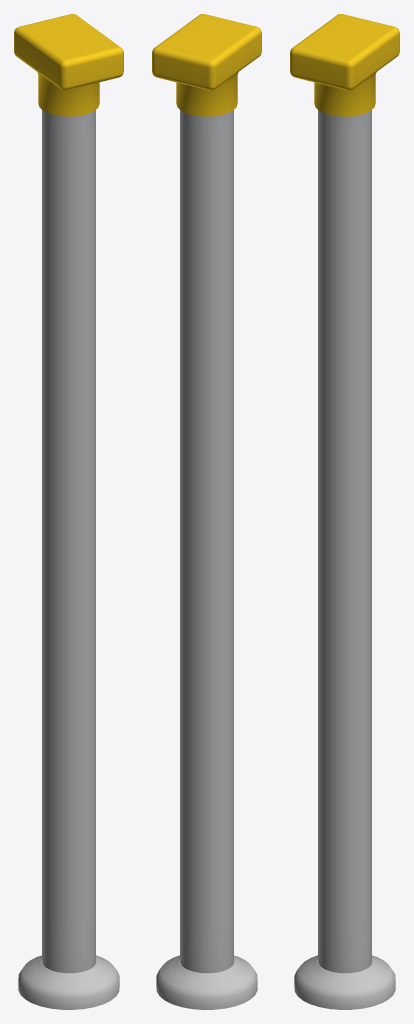
The model's file is monorail-pylon.fbx.
The picture shows the model from 3 angles, left to right: view 1: azimuth 30°, elevation 25°; view 2: azimuth 150°, elevation 25°; view 3: azimuth 330°, elevation 25°; orthographic projection.
Parts seen in each view (by area): view 1: monorail-pylon; view 2: monorail-pylon; view 3: monorail-pylon.
Boxes of the visible parts, x1,y1,x2,y2 form: monorail-pylon: (14, 14, 123, 1009); monorail-pylon: (152, 14, 261, 1009); monorail-pylon: (290, 14, 399, 1009).
Bounding box in the file's own units: 1160 × 12000 × 1160.
Materials: 1 (1 with a texture image).
